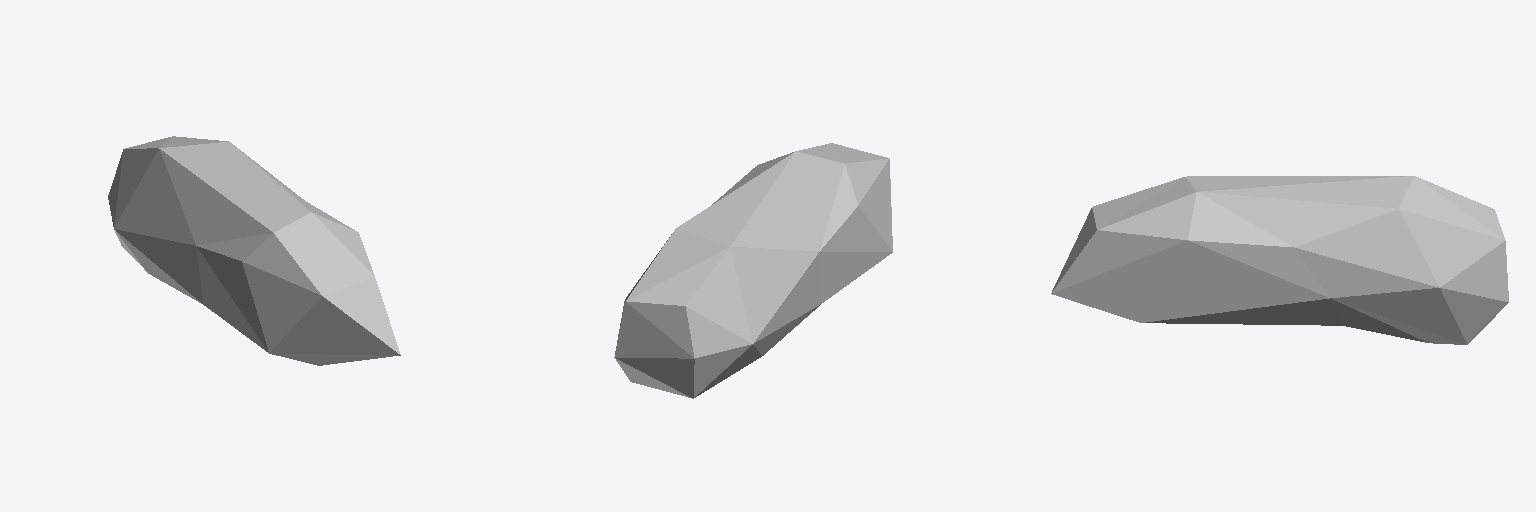
The model's file is sim_ecub_1-1_r_hand_middle_2.obj.
The picture shows the model from 3 angles: view 1: azimuth 30°, elevation 25°; view 2: azimuth 150°, elevation 25°; view 3: azimuth 270°, elevation 25°; orthographic projection.
Size of the model in its own units: 18.29 by 19.48 by 57.05.